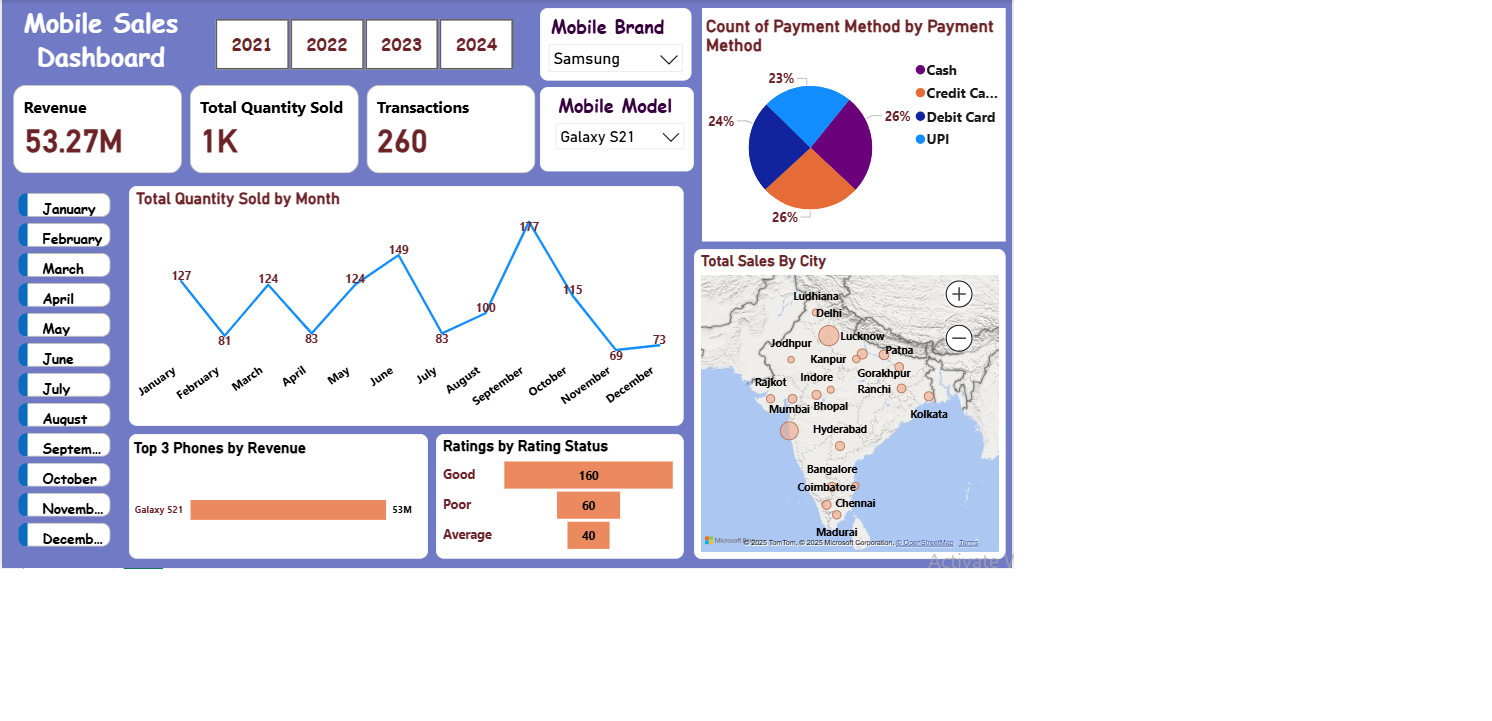

The dashboard page shown, as its layout file describes it:
{"tool":"powerbi","page":{"name":"Dashboard","canvas":[1280,720],"ordinal":0},"visuals":[{"type":"textbox","box":[9.7,0,230.7,109.8],"z":0},{"type":"advancedSlicerVisual","fields":{"Values":["Date_Calendar.Date.Variation.Date Hierarchy.Month"]},"box":[11,236.3,135,472.6],"z":1000},{"type":"cardVisual","fields":{"Data":["Sales_Data.Revenue","Sales_Data.Total_Quantity","Sales_Data.Transactions"]},"box":[9.7,102.9,672.7,122.3],"z":2000},{"type":"pieChart","fields":{"Category":["Sales_Data.Payment Method"],"Y":["CountNonNull(Sales_Data.Payment Method)"]},"box":[886.8,9.7,385,296.1],"z":3000},{"type":"slicer","fields":{"Values":["Sales_Data.Mobile Model"]},"box":[682.5,109.8,194.6,107],"z":4000},{"type":"slicer","fields":{"Values":["Sales_Data.Brand"]},"box":[682.5,9.7,191.8,91.7],"z":5000},{"type":"map","title":"Total Sales By City","fields":{"Category":["Sales_Data.City"],"Size":["CountNonNull(Sales_Data.City)"]},"box":[877.1,315.5,394.7,393.4],"z":6000},{"type":"lineChart","fields":{"Category":["Date_Calendar.Date.Variation.Date Hierarchy.Month"],"Y":["Sales_Data.Total Quantity Sold"]},"box":[161.2,236.3,703.3,304.4],"z":7000},{"type":"funnel","title":" Ratings by Rating Status","fields":{"Category":["Sales_Data.Rating Status"],"Y":["CountNonNull(Sales_Data.Customer Ratings)"]},"box":[550.4,550.4,314.1,158.5],"z":8000},{"type":"clusteredBarChart","title":"Top 3 Phones by Revenue","fields":{"Y":["Sales_Data.Revenue"],"Category":["Sales_Data.Mobile Model"]},"box":[161.2,550.4,379.5,158.5],"z":9000},{"type":"slicer","fields":{"Values":["Date_Calendar.Date.Variation.Date Hierarchy.Year"]},"box":[250.2,9.7,417,92],"z":10000}]}

Visuals, with their boxes on the page's 1280x720 design canvas (x1, y1, x2, y2). These are canvas units, not pixel positions in the 1492x721 screenshot, which may show the page scaled, cropped or inside an application window:
textbox: 10 0 240 110
advancedSlicerVisual - Date_Calendar.Date.Variation.Date Hierarchy.Month: 11 236 146 709
cardVisual - Sales_Data.Revenue x Sales_Data.Total_Quantity: 10 103 682 225
pieChart - Sales_Data.Payment Method x CountNonNull(Sales_Data.Payment Method): 887 10 1272 306
slicer - Sales_Data.Mobile Model: 682 110 877 217
slicer - Sales_Data.Brand: 682 10 874 101
"Total Sales By City" map: 877 316 1272 709
lineChart - Date_Calendar.Date.Variation.Date Hierarchy.Month x Sales_Data.Total Quantity Sold: 161 236 864 541
" Ratings by Rating Status" funnel: 550 550 864 709
"Top 3 Phones by Revenue" clusteredBarChart: 161 550 541 709
slicer - Date_Calendar.Date.Variation.Date Hierarchy.Year: 250 10 667 102
